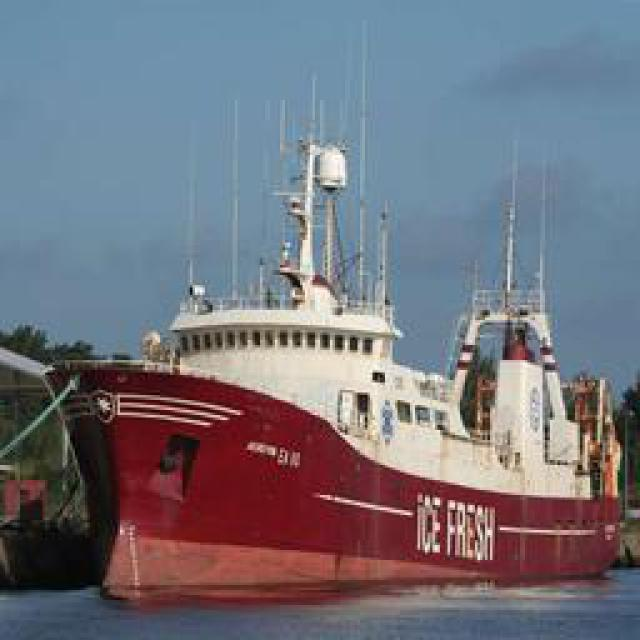Ship: (17, 65, 625, 600)
